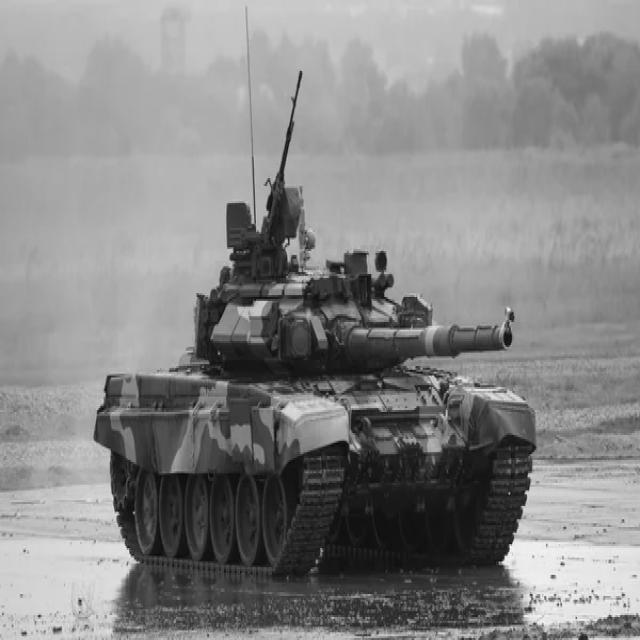Tank: (88, 138, 547, 583)
